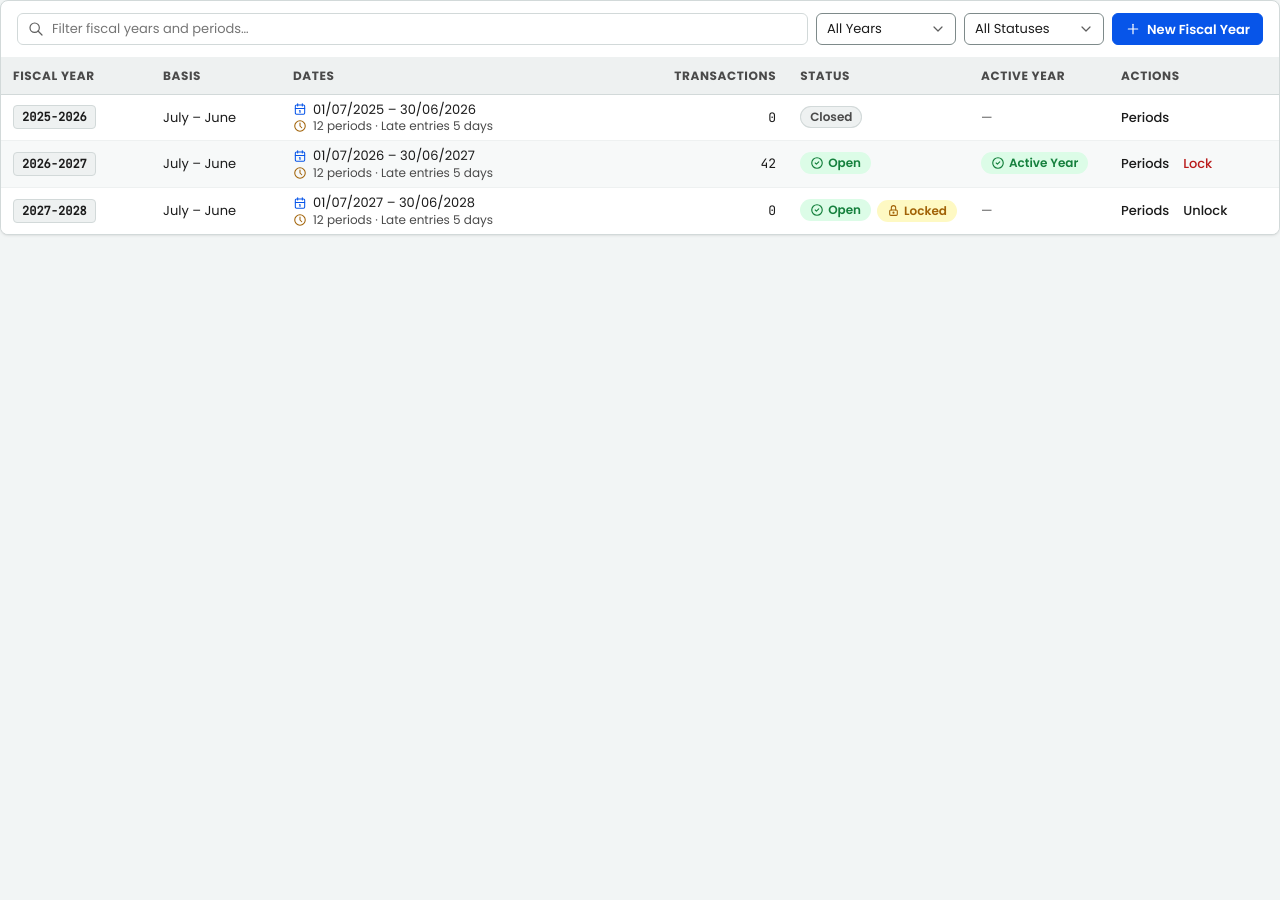
Test case: FiscalYearsTable › locks a year only after the year name is typed, then refreshes
Click the button "Lock". click: (1198, 164)
box: [1183,154,1212,174]
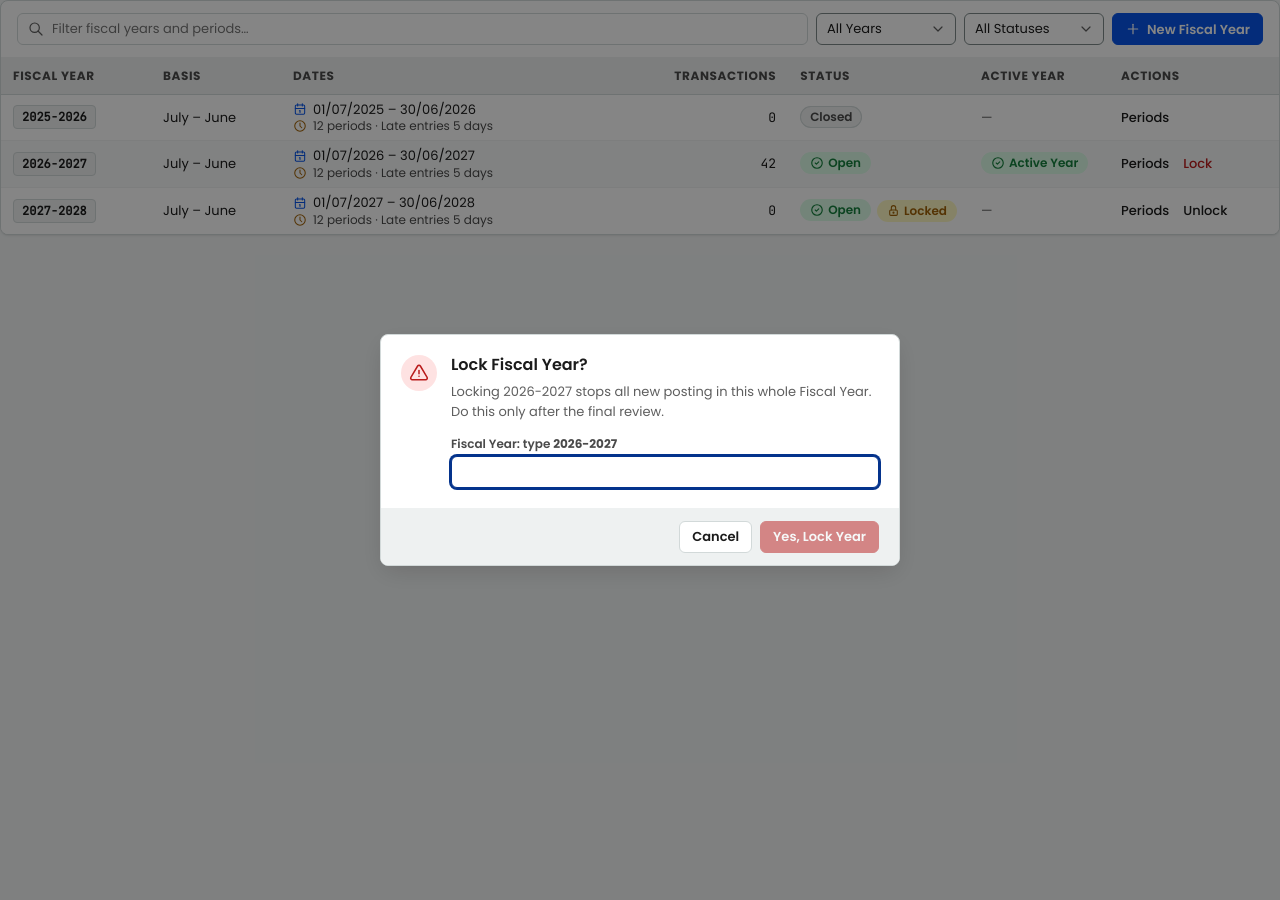
Expected: the button "Yes, Lock Year" is disabled, [760,521,879,553]
Type "2026-2027" into the field. click: (665, 472)
box: [451,456,879,488]
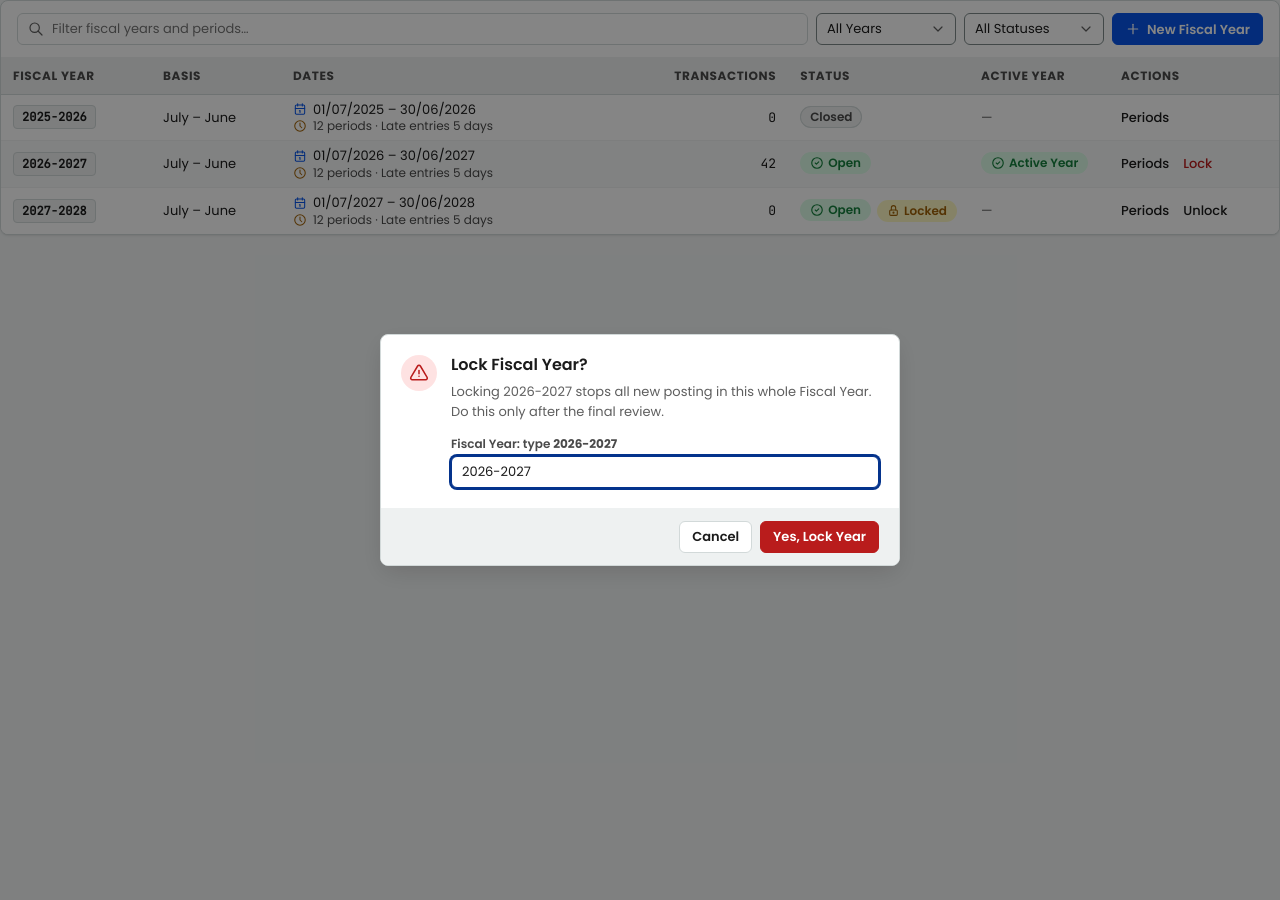
Click the button "Yes, Lock Year". click: (820, 537)
box: [760,521,879,553]
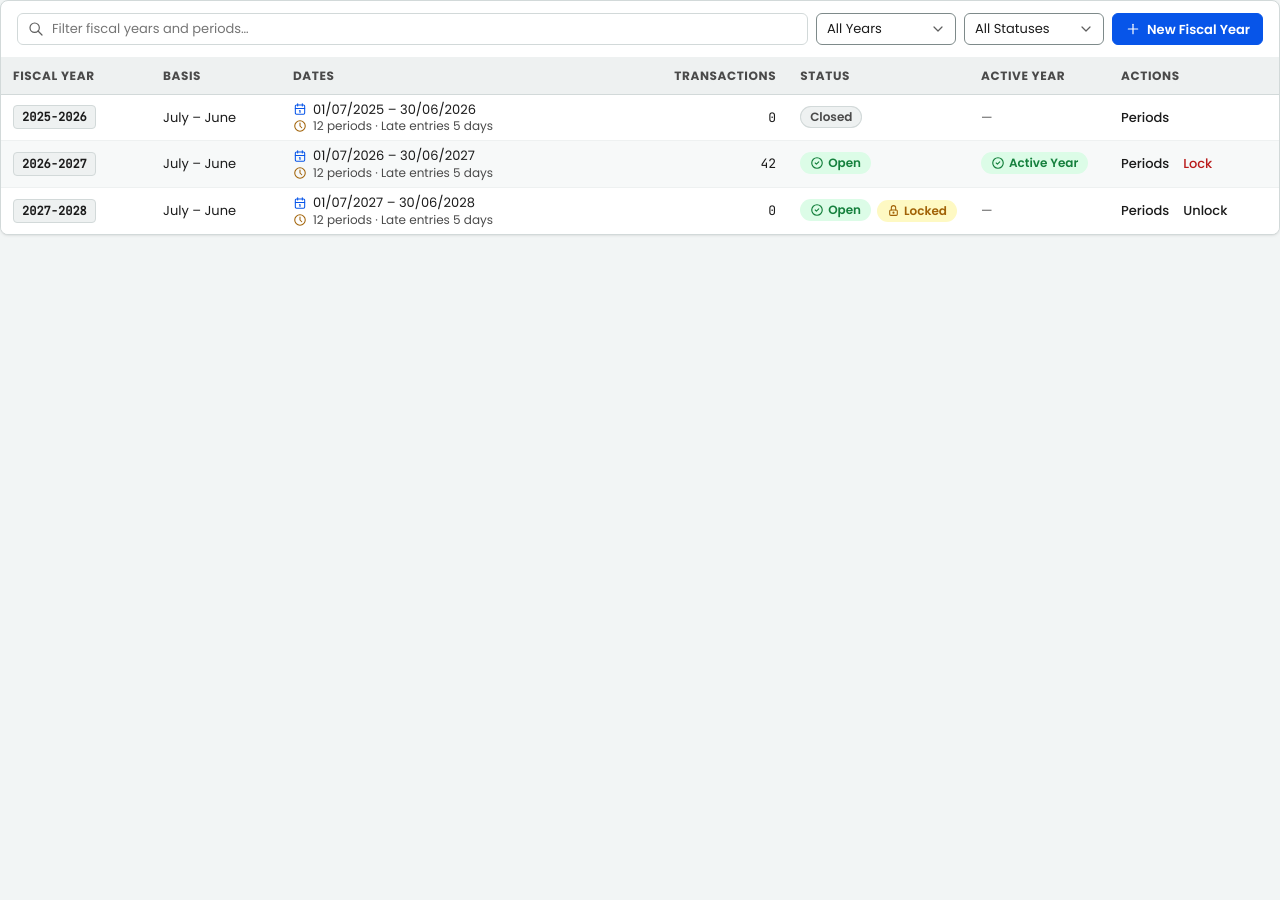
Expected: the dialog is gone
